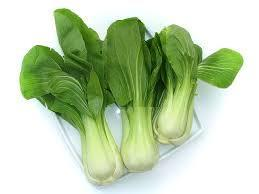Healthy-Pechay: (22, 7, 157, 181), (120, 22, 234, 142)
